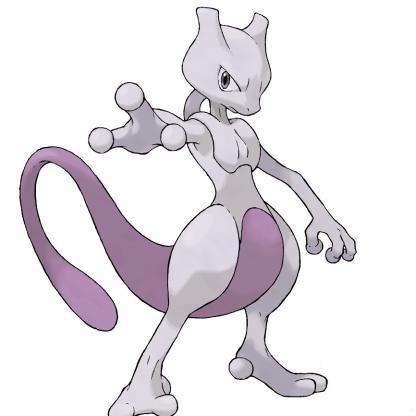Mewtwo: (12, 35, 416, 416)
